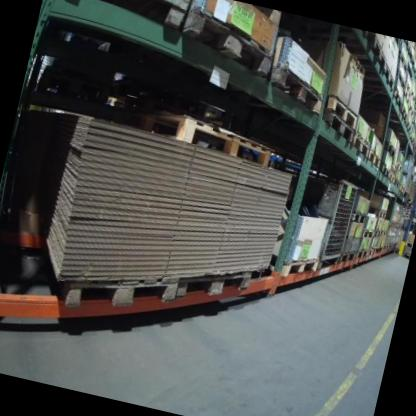pallet: (59, 246, 181, 330), (124, 102, 276, 167), (177, 3, 280, 84), (175, 256, 251, 315), (258, 63, 332, 118), (262, 245, 324, 287), (315, 89, 365, 132), (315, 111, 359, 149), (359, 32, 393, 70), (374, 134, 401, 157), (336, 245, 359, 271), (381, 63, 401, 90), (387, 85, 406, 113), (350, 136, 371, 161), (394, 51, 413, 78), (366, 147, 383, 172), (363, 206, 389, 221), (375, 161, 394, 180), (396, 101, 410, 126), (400, 86, 414, 109), (401, 119, 415, 140), (349, 211, 367, 226), (355, 247, 370, 265), (360, 228, 376, 243), (378, 242, 392, 257), (365, 244, 378, 260), (393, 158, 406, 173), (385, 170, 396, 186), (406, 107, 416, 122), (373, 228, 385, 239), (391, 178, 401, 191), (409, 92, 416, 108), (387, 219, 397, 230), (399, 183, 406, 194)
stillage: (283, 168, 365, 278), (60, 0, 196, 37), (396, 149, 416, 196)
